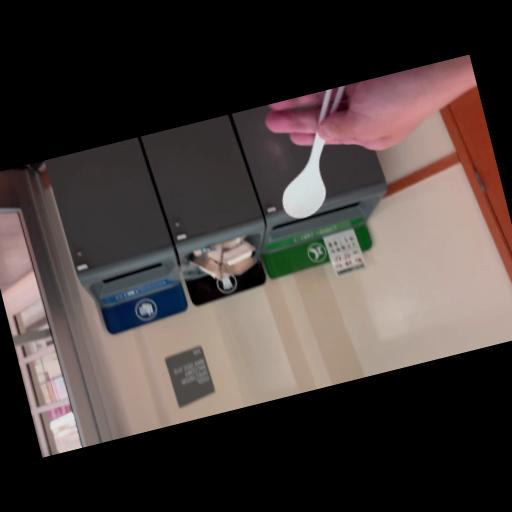utensil: (258, 86, 374, 226)
